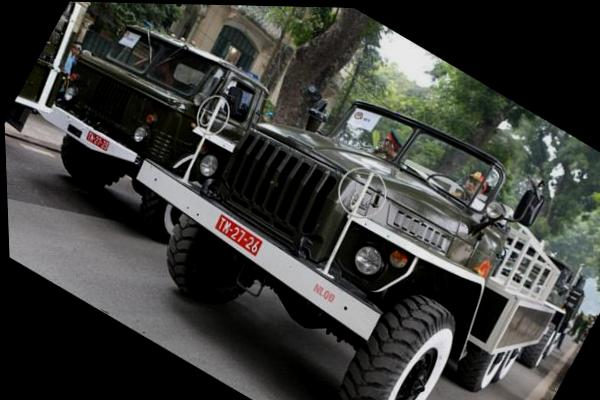License_Plate: (210, 208, 267, 260), (84, 129, 116, 156)
